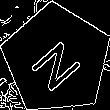N_NE: (25, 28, 88, 91)
